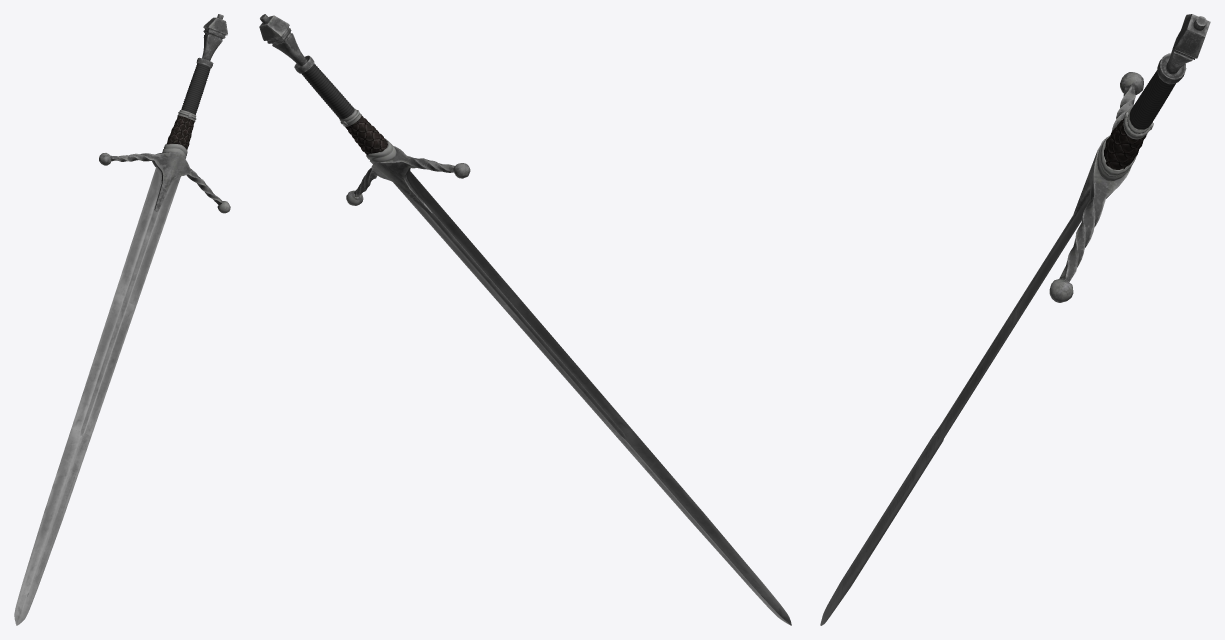
File: yy_sword.glb
3 renders of one model, left to right at view 1: azimuth 30°, elevation 25°; view 2: azimuth 150°, elevation 25°; view 3: azimuth 270°, elevation 25°, orthographic. The views are drawn at different scales.
Bounding box in the file's own units: 36.8 × 53.37 × 21.21.
Materials: 1 (1 with a texture image).
